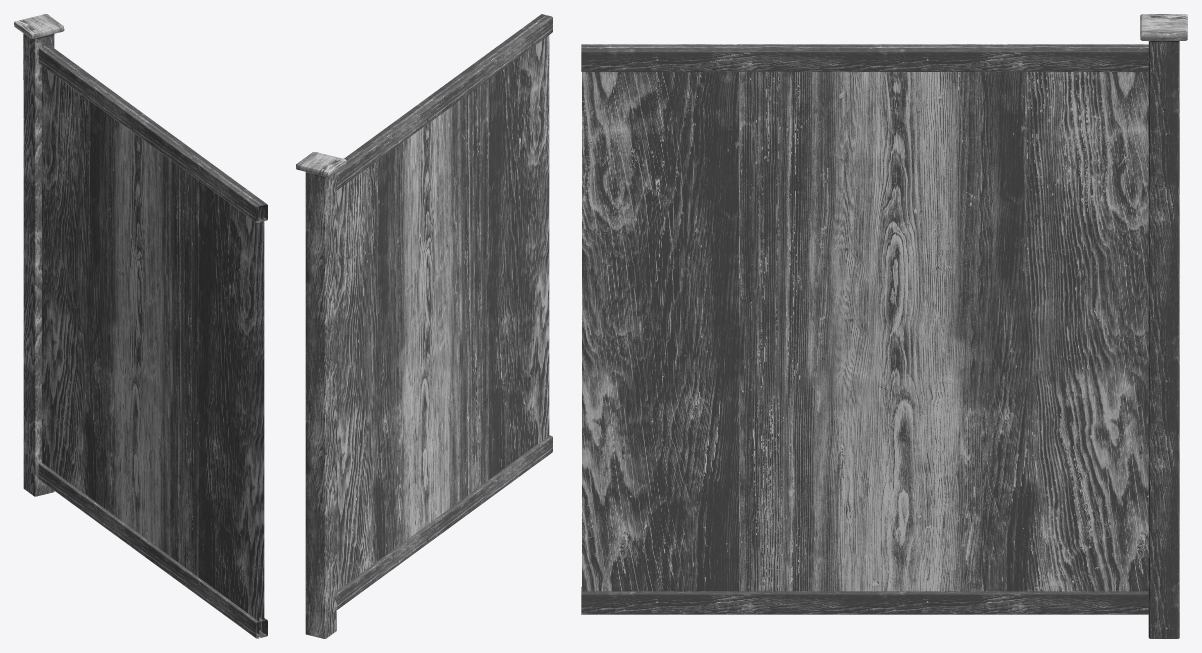
The model's file is SM_OutsideFence_A_200.fbx.
3 renders of one model, left to right at view 1: azimuth 30°, elevation 25°; view 2: azimuth 150°, elevation 25°; view 3: azimuth 270°, elevation 25°, orthographic. The views are drawn at different scales.
Visible parts, largest first — view 1: SM_OutsideFence_A_200; view 2: SM_OutsideFence_A_200; view 3: SM_OutsideFence_A_200.
Boxes of the visible parts, bbox=[...] form: SM_OutsideFence_A_200: bbox=[14, 14, 267, 638]; SM_OutsideFence_A_200: bbox=[296, 14, 552, 638]; SM_OutsideFence_A_200: bbox=[581, 14, 1187, 638].
Size of the model in its own units: 17.2 by 208 by 230.
Materials: 2 (2 with a texture image).
